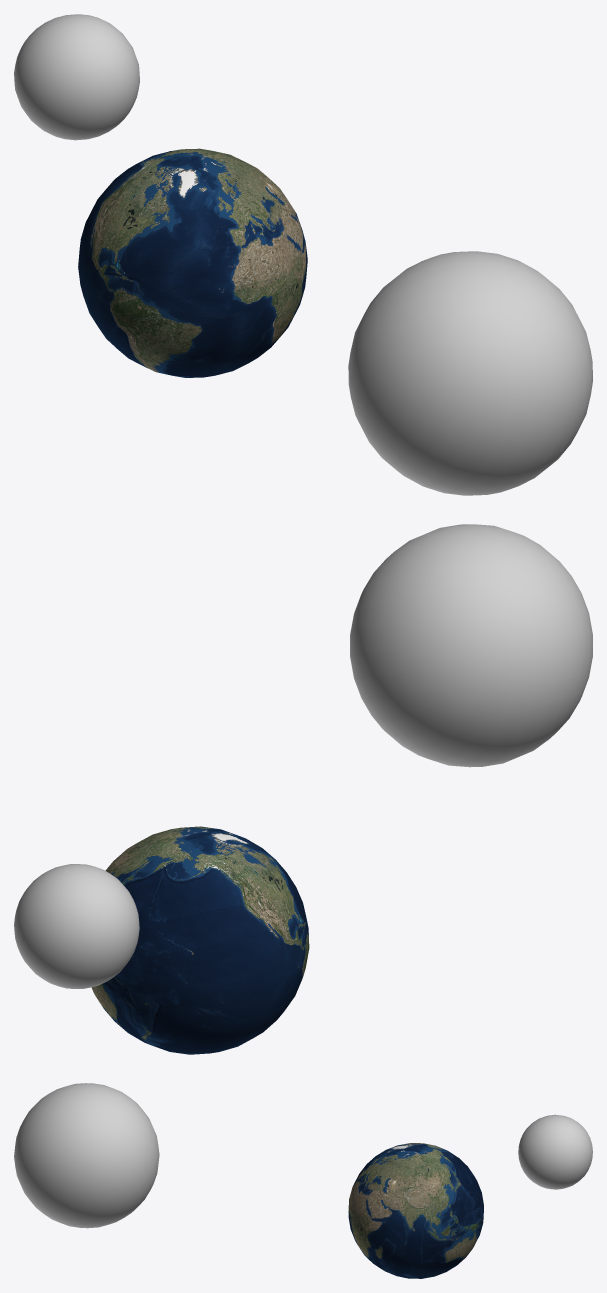
File: MoonEarthAndMars.obj
The picture shows the model from 3 angles, top to bottom: view 1: azimuth 30°, elevation 25°; view 2: azimuth 150°, elevation 25°; view 3: azimuth 270°, elevation 25°; orthographic projection. The views are drawn at different scales.
Visible parts, largest first — view 1: Mars_Cube.002, Earth_Earth_Cube.002, Moon_Moon_Cube.004; view 2: Mars_Cube.002, Earth_Earth_Cube.002, Moon_Moon_Cube.004; view 3: Mars_Cube.002, Earth_Earth_Cube.002, Moon_Moon_Cube.004.
Boxes of the visible parts, bbox=[...] form: Mars_Cube.002: bbox=[348, 251, 592, 495]; Earth_Earth_Cube.002: bbox=[78, 148, 307, 377]; Moon_Moon_Cube.004: bbox=[14, 14, 139, 140]; Mars_Cube.002: bbox=[350, 524, 592, 767]; Earth_Earth_Cube.002: bbox=[91, 826, 309, 1054]; Moon_Moon_Cube.004: bbox=[14, 864, 139, 988]; Mars_Cube.002: bbox=[14, 1083, 159, 1228]; Earth_Earth_Cube.002: bbox=[348, 1143, 483, 1278]; Moon_Moon_Cube.004: bbox=[518, 1114, 592, 1189].
Bounding box in the file's own units: 6.76 × 9.38 × 26.96.
